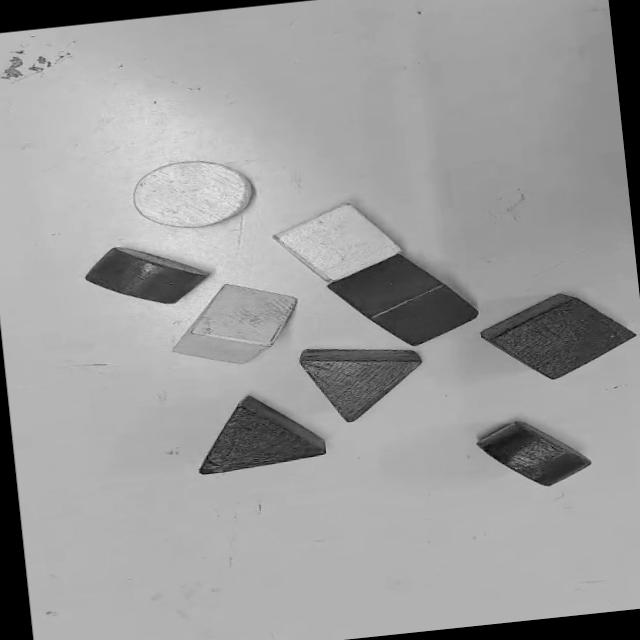bcube: (481, 294, 637, 379)
btriangle: (199, 396, 325, 475)
rcircle: (85, 247, 207, 304)
rcube: (328, 255, 478, 346)
rtriangle: (299, 349, 422, 421), (476, 422, 591, 486)
ycircle: (133, 161, 253, 228)
ycube: (273, 203, 402, 282)
ytriangle: (174, 285, 296, 363)
